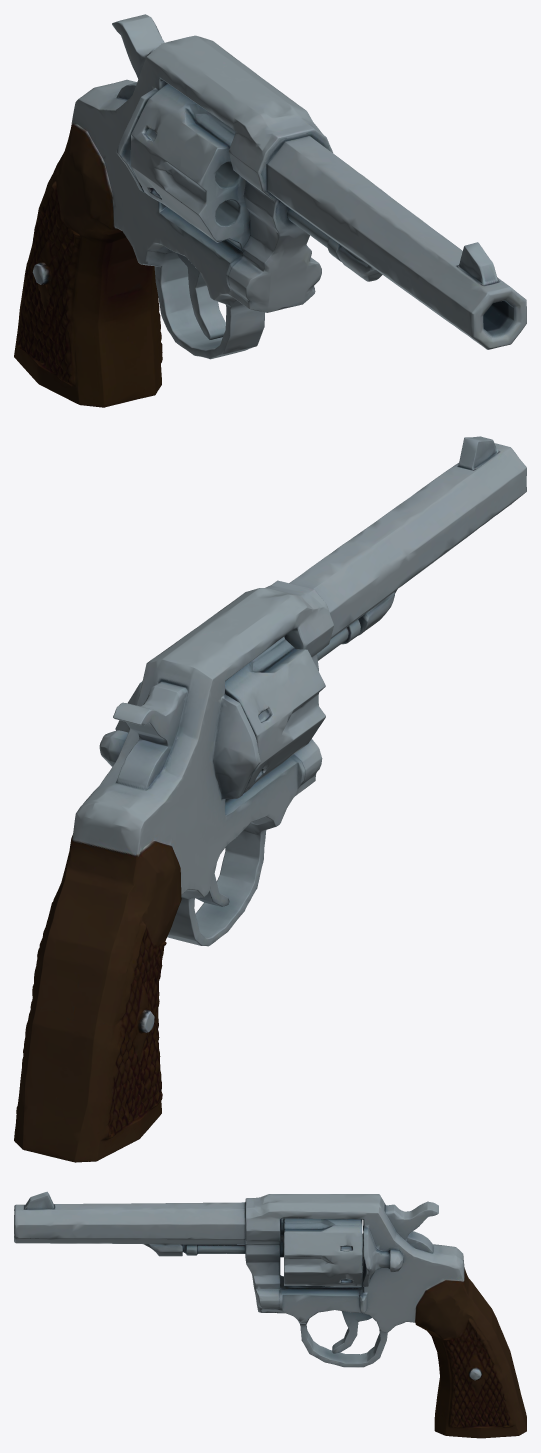
The model's file is revolver.glb.
3 renders of one model, top to bottom at view 1: azimuth 30°, elevation 25°; view 2: azimuth 150°, elevation 25°; view 3: azimuth 270°, elevation 25°, orthographic. The views are drawn at different scales.
Parts seen in each view (by area): view 1: tripo_node_7ee9bd32-a700-49e8-976c-e23a5fe8659f; view 2: tripo_node_7ee9bd32-a700-49e8-976c-e23a5fe8659f; view 3: tripo_node_7ee9bd32-a700-49e8-976c-e23a5fe8659f.
Boxes of the visible parts, x1,y1,x2,y2 form: tripo_node_7ee9bd32-a700-49e8-976c-e23a5fe8659f: [14, 14, 526, 407]; tripo_node_7ee9bd32-a700-49e8-976c-e23a5fe8659f: [14, 436, 526, 1162]; tripo_node_7ee9bd32-a700-49e8-976c-e23a5fe8659f: [14, 1191, 526, 1438].
Size of the model in its own units: 0.0806 by 0.22 by 0.4416.
Materials: 1 (1 with a texture image).
